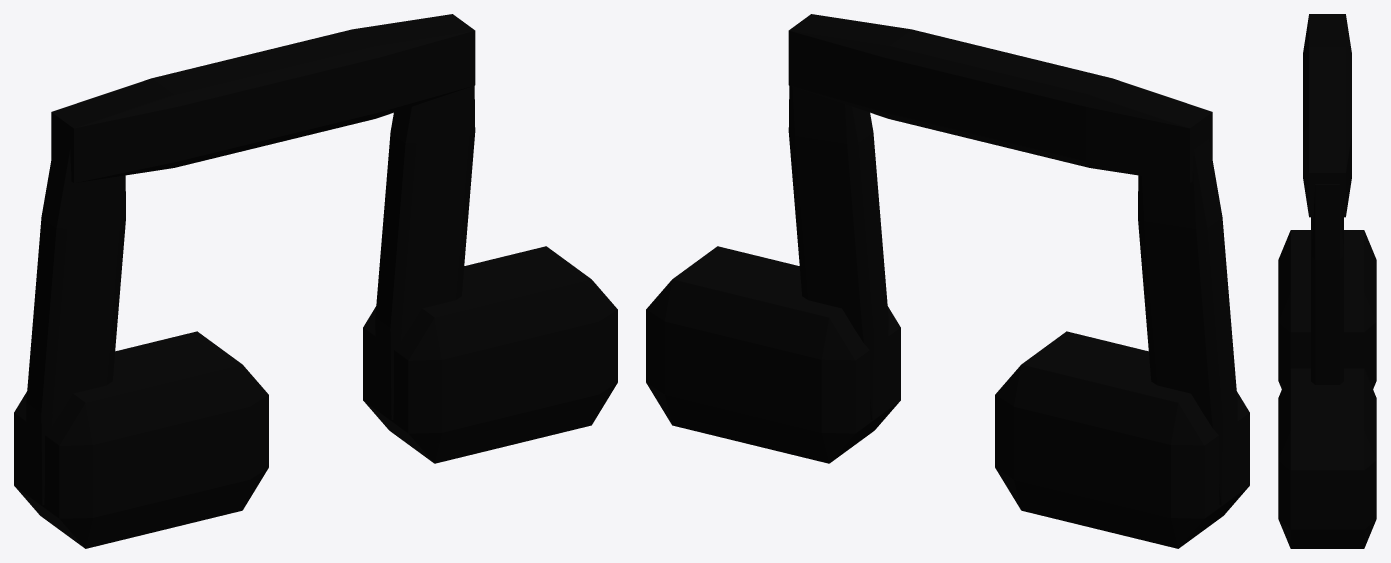
Rendered from P6_GameDesign_Note3.fbx.
3 renders of one model, left to right at view 1: azimuth 30°, elevation 25°; view 2: azimuth 150°, elevation 25°; view 3: azimuth 270°, elevation 25°, orthographic. The views are drawn at different scales.
Visible parts, largest first — view 1: beveled_cuboid, beveled_cuboid_1, beveled_cuboid_5, beveled_cuboid_4; view 2: beveled_cuboid, beveled_cuboid_1, beveled_cuboid_5, beveled_cuboid_4; view 3: beveled_cuboid_1, beveled_cuboid, beveled_cuboid_5.
Boxes of the visible parts, x1,y1,x2,y2 form: beveled_cuboid: (51,14,475,419); beveled_cuboid_1: (363,246,617,463); beveled_cuboid_5: (14,331,268,548); beveled_cuboid_4: (26,139,125,505); beveled_cuboid: (788,14,1212,419); beveled_cuboid_1: (646,246,900,463); beveled_cuboid_5: (995,331,1249,548); beveled_cuboid_4: (1138,139,1237,505); beveled_cuboid_1: (1278,368,1376,548); beveled_cuboid: (1303,14,1351,384); beveled_cuboid_5: (1278,230,1376,388).
Size of the model in its own units: 201 by 144 by 37.5.
Materials: 1 (1 with a texture image).
